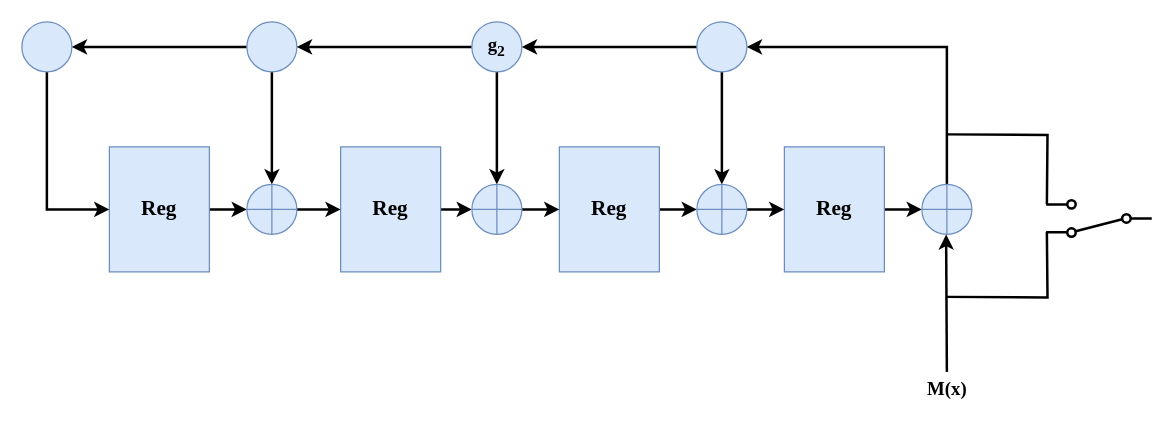
This 1175x429 diagram has some shape labels left out. The shapes that lost their labels are listed below. From the top down, each one's centre as x and y in pixels, then its label:
(x=46, y=46): g 0
(x=271, y=46): g 1
(x=721, y=46): g 3
